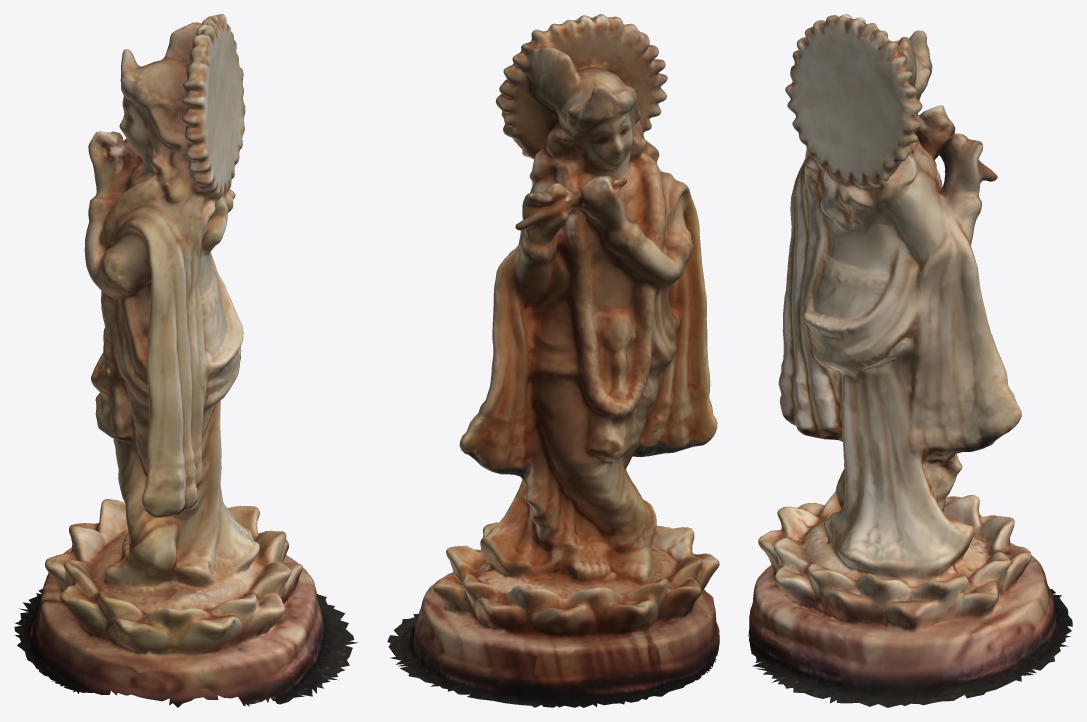
File: Krishna.glb
3 views of the same model, side by side, from view 1: azimuth 30°, elevation 25°; view 2: azimuth 150°, elevation 25°; view 3: azimuth 270°, elevation 25° (orthographic). The views are drawn at different scales.
Visible parts, largest first — view 1: 3DModel; view 2: 3DModel; view 3: 3DModel.
Boxes of the visible parts, <box> form: 3DModel: <box>14,14,358,707</box>; 3DModel: <box>387,14,719,707</box>; 3DModel: <box>748,14,1072,707</box>.
Bounding box in the file's own units: 2.41 × 5.02 × 2.37.
Materials: 1 (1 with a texture image).
